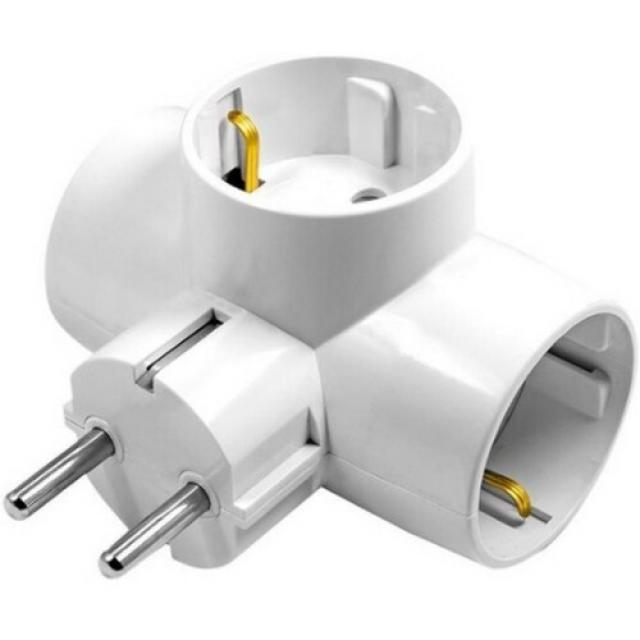typeb: (133, 35, 496, 338)
